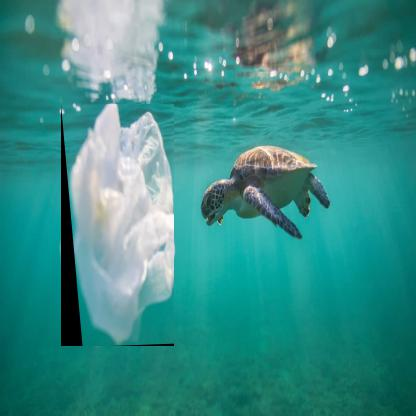plastic-bag: (61, 104, 175, 347)
